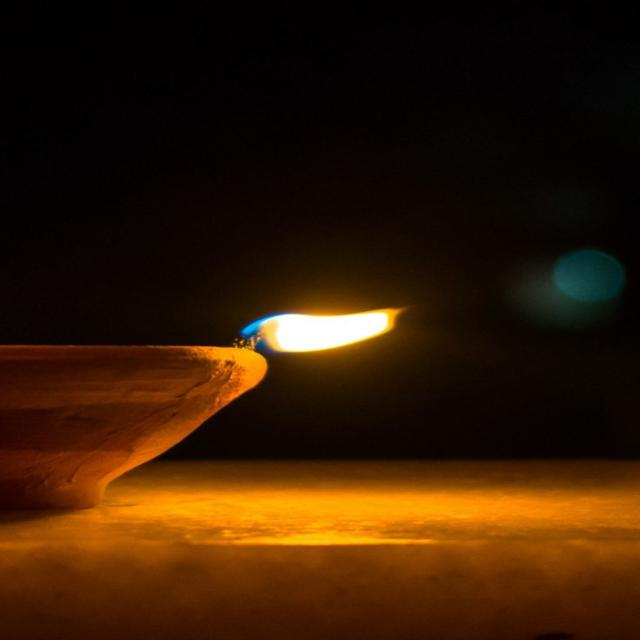fire: (241, 306, 404, 355)
